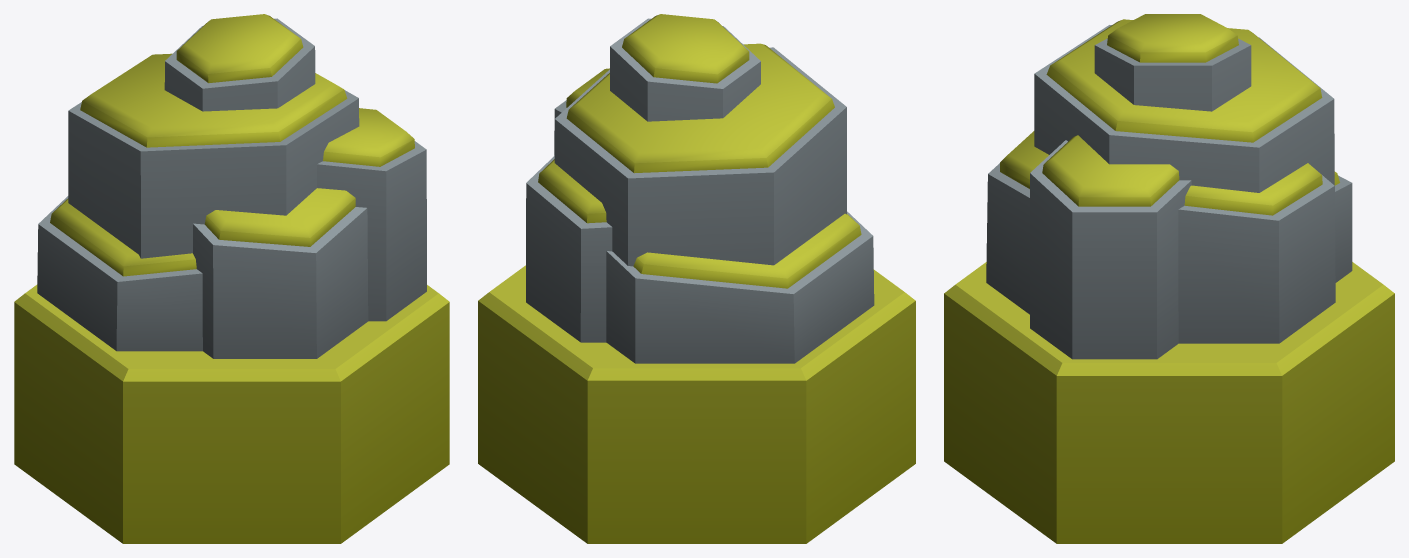
File: hex_mountain_a.glb
3 renders of one model, left to right at view 1: azimuth 30°, elevation 25°; view 2: azimuth 150°, elevation 25°; view 3: azimuth 270°, elevation 25°, orthographic. The views are drawn at different scales.
Visible parts, largest first — view 1: hex_mountain_a; view 2: hex_mountain_a; view 3: hex_mountain_a.
Boxes of the visible parts, x1,y1,x2,y2 form: hex_mountain_a: [14, 14, 449, 543]; hex_mountain_a: [478, 14, 915, 543]; hex_mountain_a: [944, 14, 1394, 543].
Bounding box in the file's own units: 1 × 1.25 × 1.15.
Materials: 1 (1 with a texture image).
